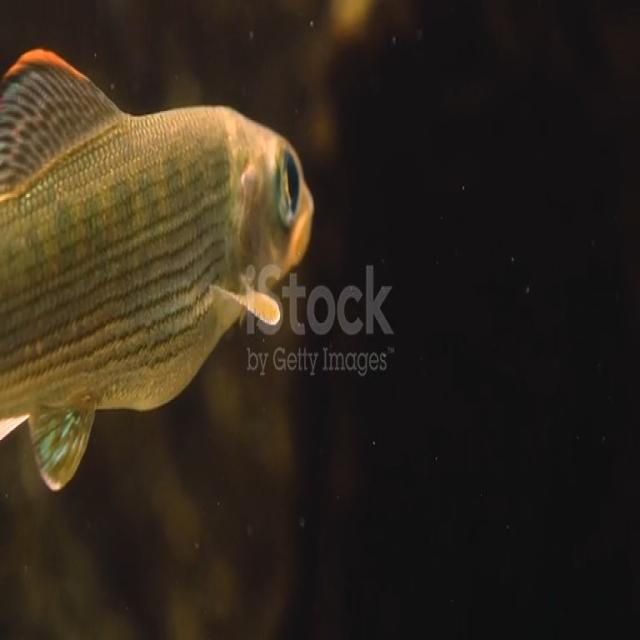fish: (1, 44, 321, 497)
